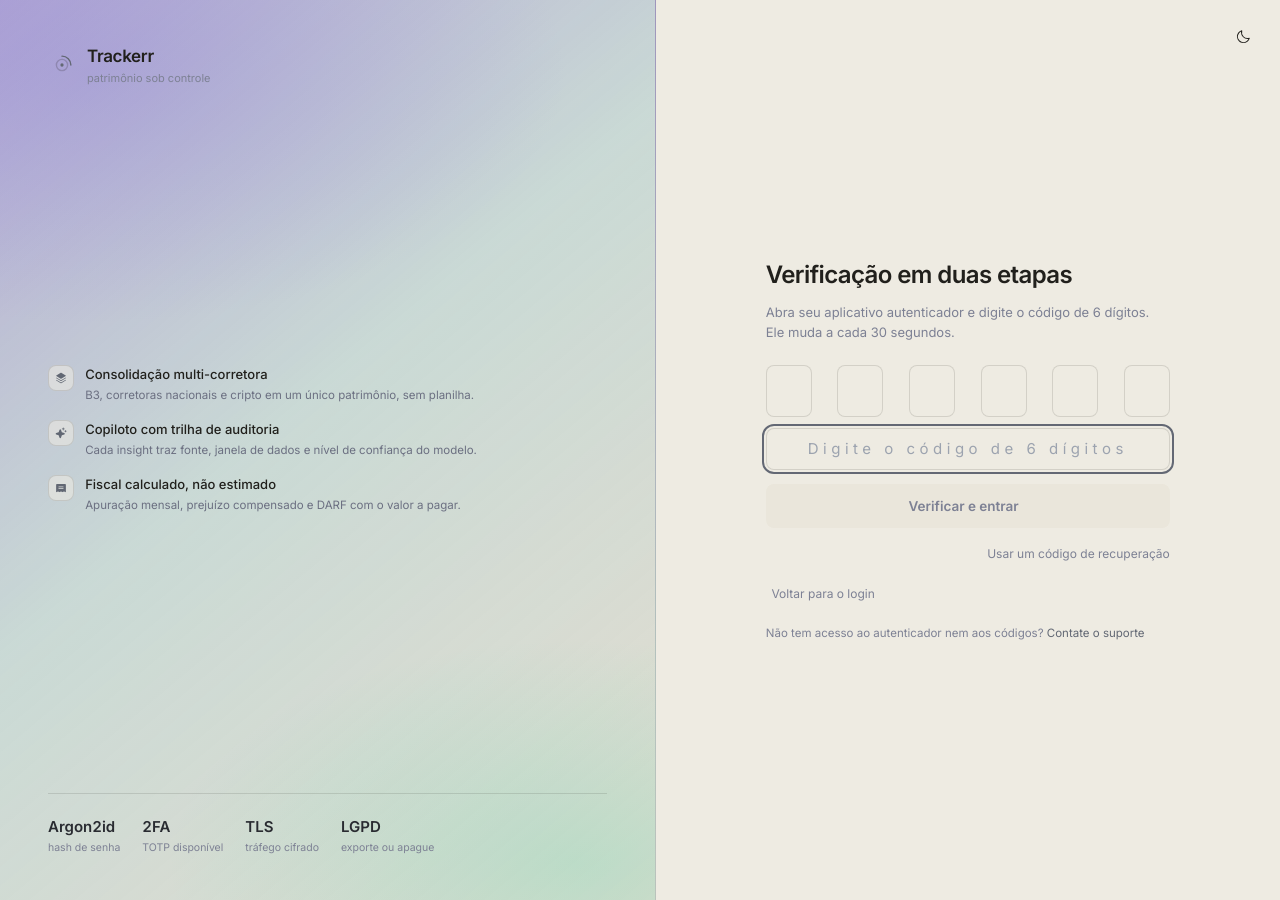
TwoFactorVerify › mostra a mensagem certa para código inválido ou já usado
This screenshot has width=1280, height=900.
Step 1. Click the button "Usar um código de recuperação" → (1078, 554), box [987,544,1170,562]
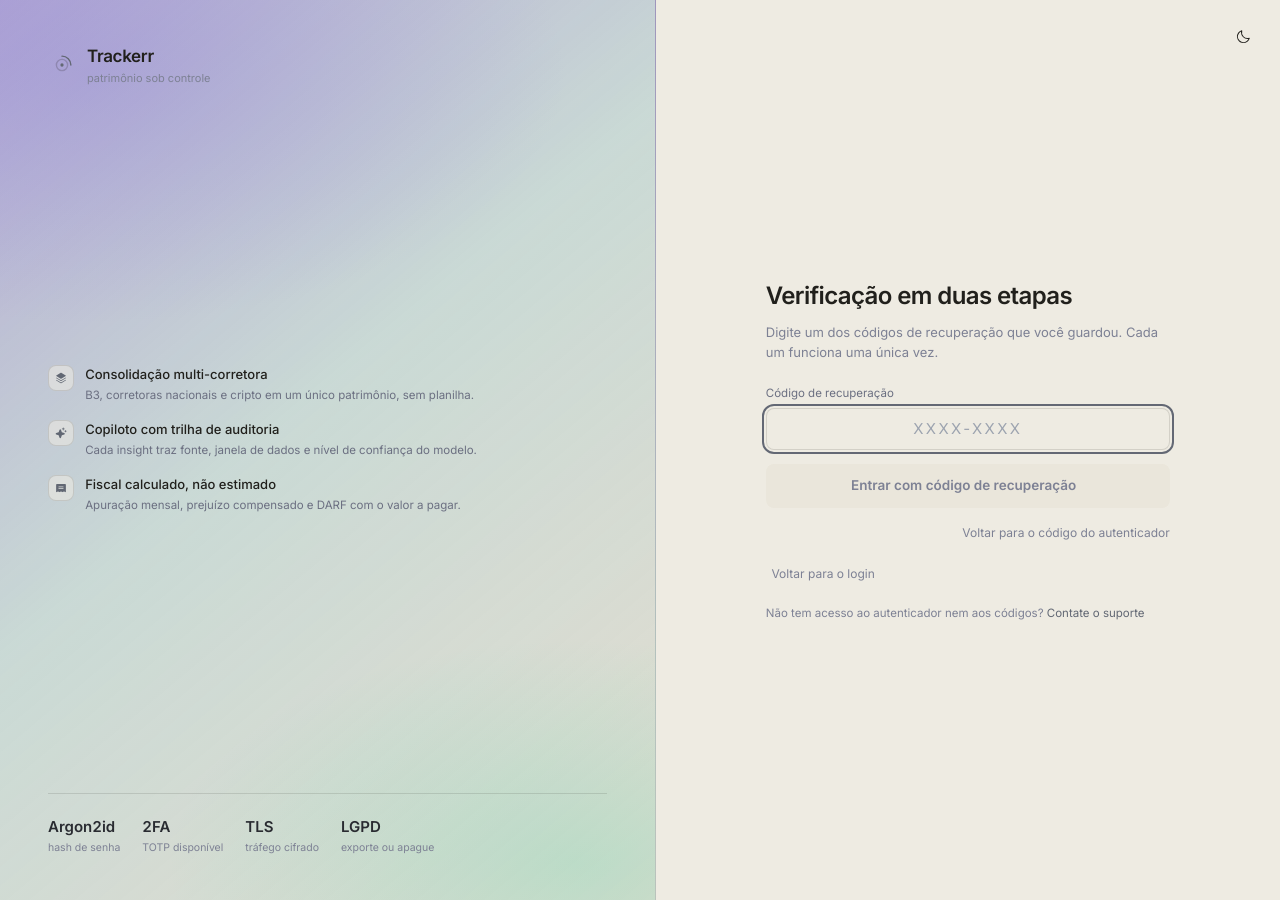
Step 2. Type "ZZZZ-ZZZZ" into the field labelled "Código de recuperação" → (968, 428), box [766,408,1170,450]
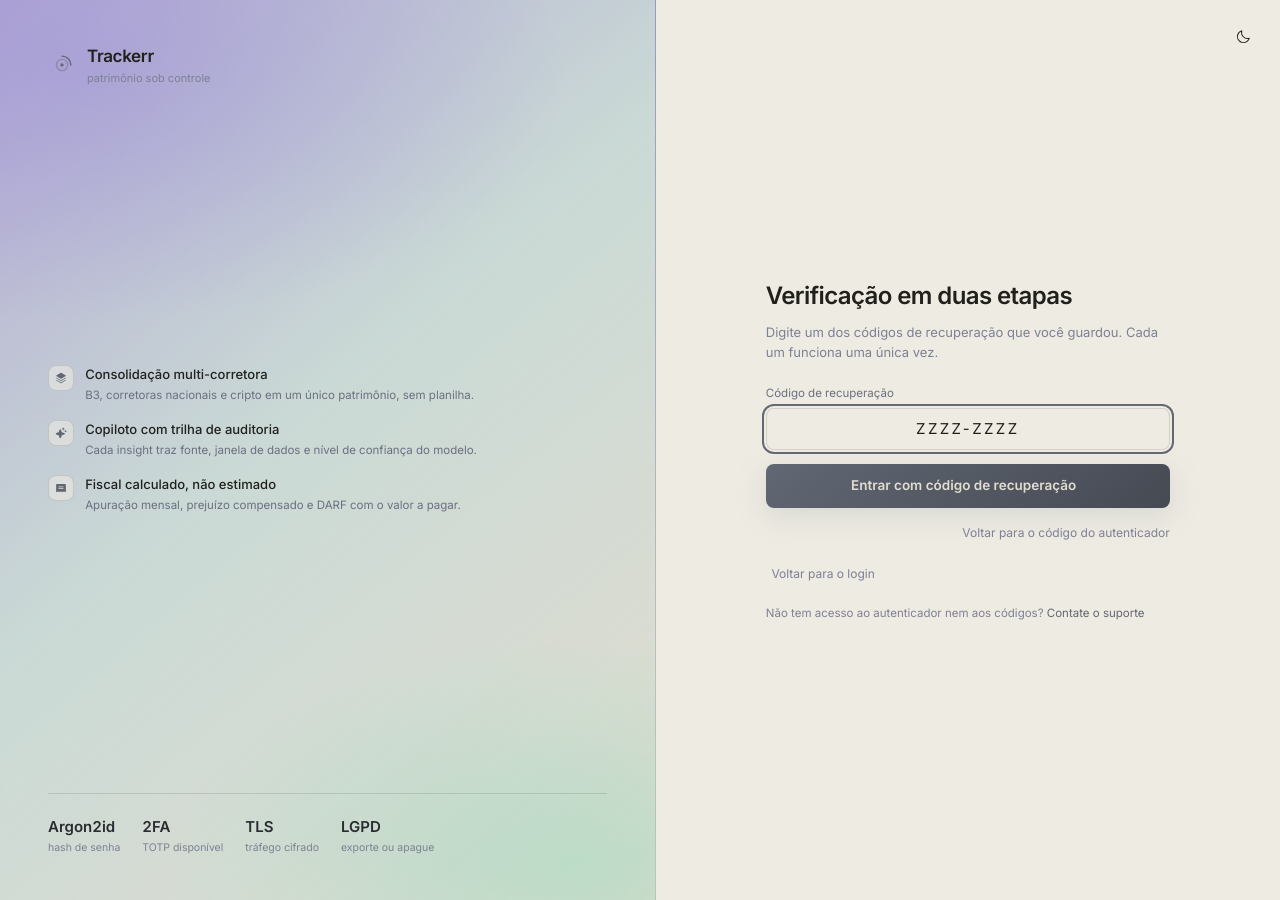
Step 3. Click the button "Entrar com código de recuperação" → (968, 486), box [766,464,1170,508]
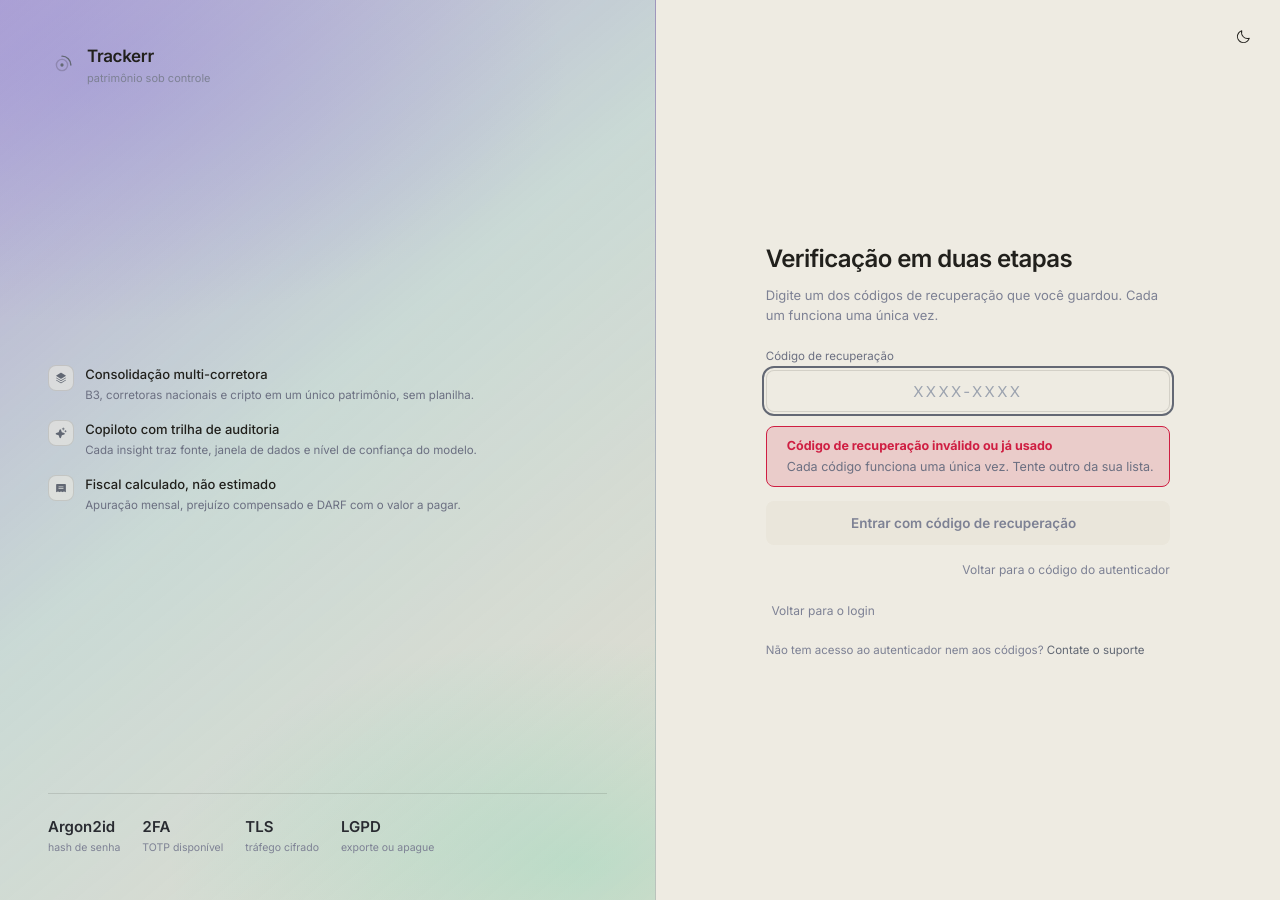
Expected: the message shows "inválido ou já usado", [787,438,1052,453]
Expected: the field labelled "Código de recuperação" is empty, [766,370,1170,412]
